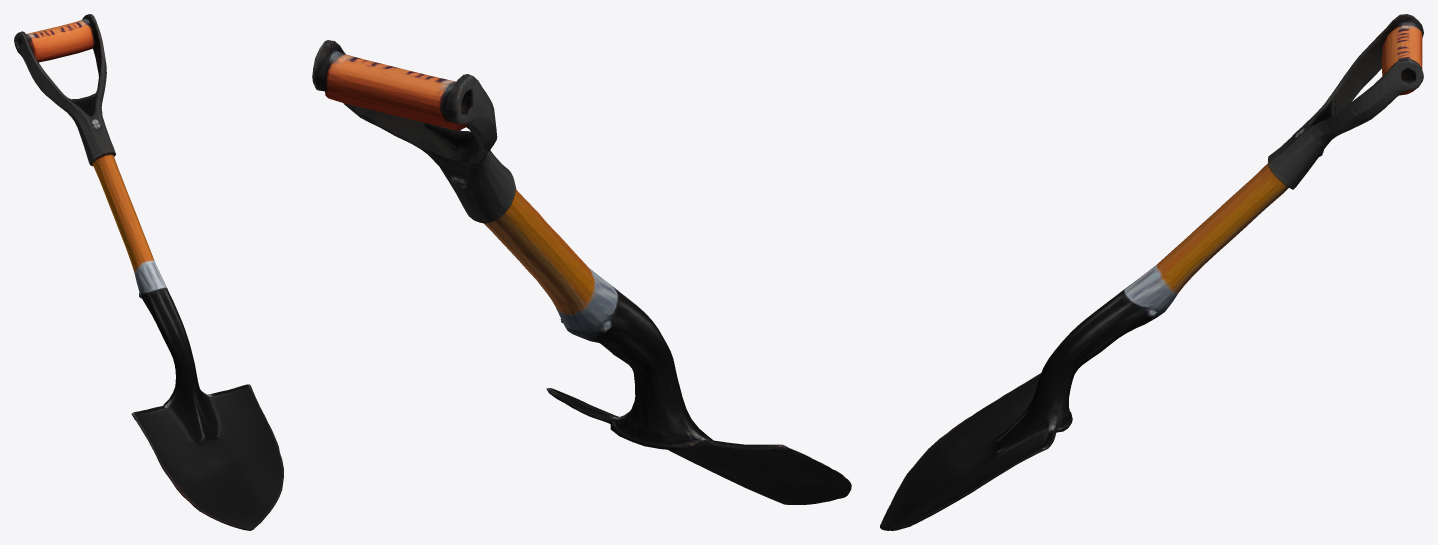
The model's file is shovel.glb.
The picture shows the model from 3 angles, left to right: view 1: azimuth 30°, elevation 25°; view 2: azimuth 150°, elevation 25°; view 3: azimuth 270°, elevation 25°; orthographic projection. The views are drawn at different scales.
Visible parts, largest first — view 1: world; view 2: world; view 3: world.
Part boxes in pixels (<box>): world: <box>14,14,283,530</box>; world: <box>312,40,851,504</box>; world: <box>880,14,1423,530</box>.
Size of the model in its own units: 0.3382 by 0.9975 by 0.9983.
Materials: 1 (1 with a texture image).
